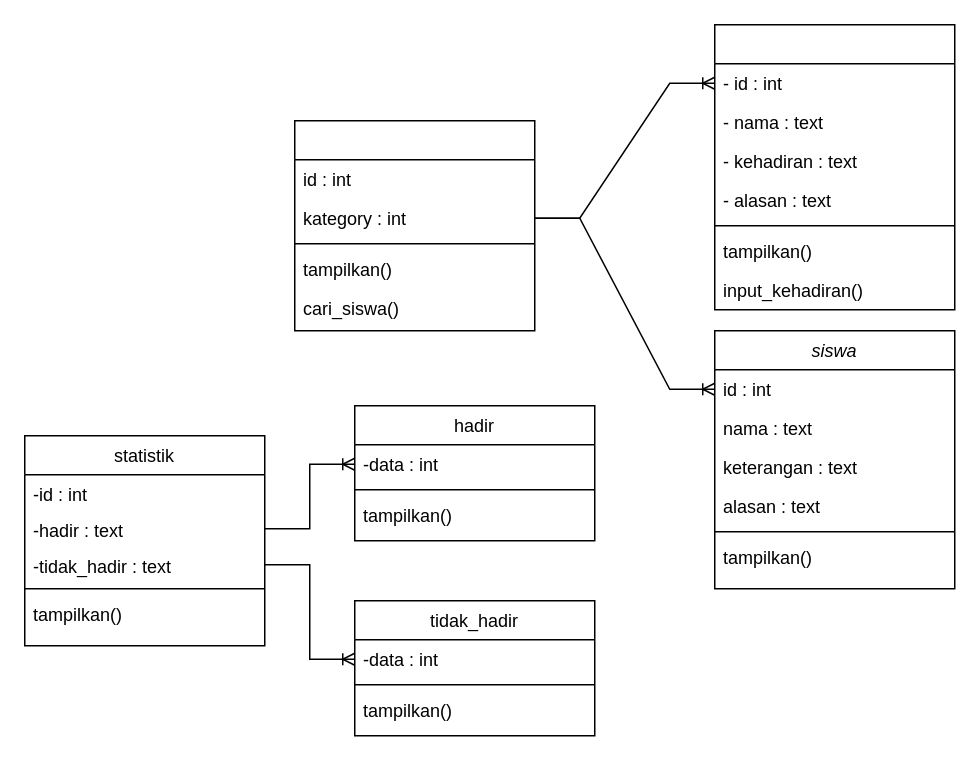
The diagram is 980 pixels wide and 761 high, and some of its shapes have lost their labels. Each missing label, with the box of its shape:
guru: (713, 23, 955, 310)
manu: (293, 119, 535, 331)
